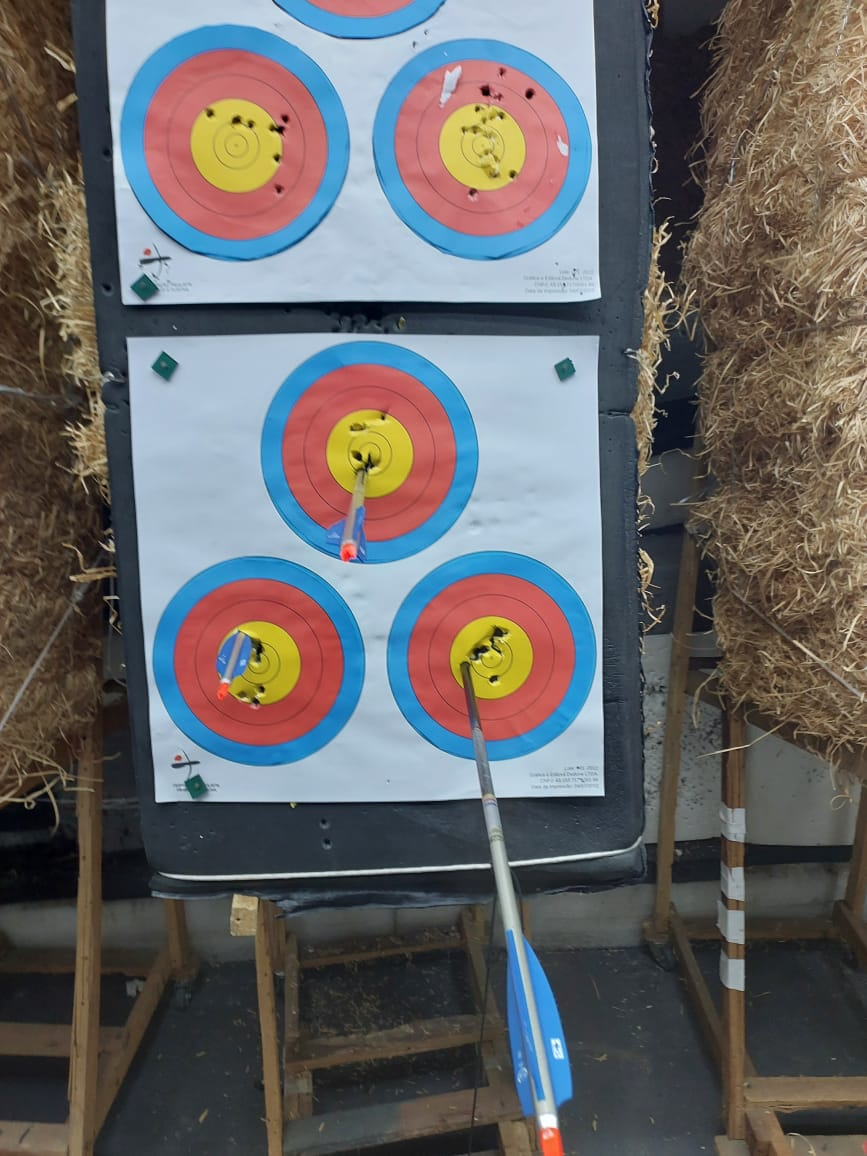9: (151, 557, 376, 780), (390, 558, 587, 763)
9 linha 10: (268, 337, 480, 565)
